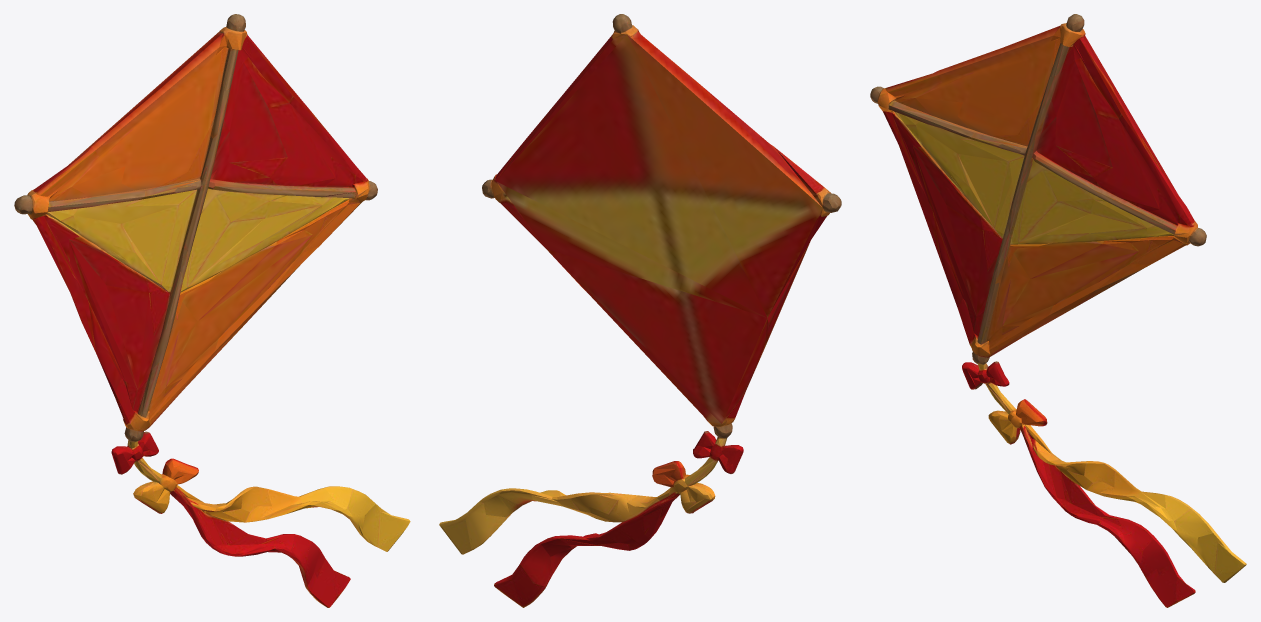
The model's file is kite.glb.
The picture shows the model from 3 angles, left to right: view 1: azimuth 30°, elevation 25°; view 2: azimuth 150°, elevation 25°; view 3: azimuth 330°, elevation 25°; orthographic projection. The views are drawn at different scales.
Parts seen in each view (by area): view 1: output_unwrapped; view 2: output_unwrapped; view 3: output_unwrapped.
Boxes of the visible parts, x1,y1,x2,y2 form: output_unwrapped: (14,14,410,607); output_unwrapped: (439,14,841,607); output_unwrapped: (870,14,1246,607).
Size of the model in its own units: 1.28 by 1.9 by 0.1107.
Materials: 1 (1 with a texture image).
